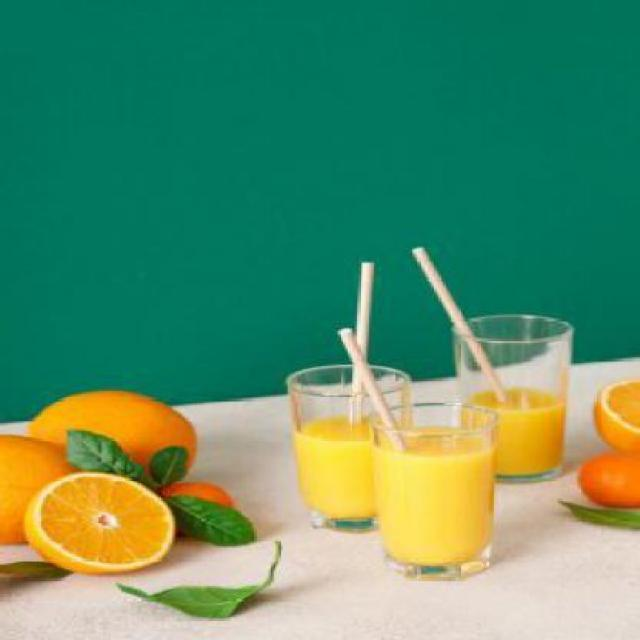Jeruk Sudah Matang: (35, 388, 196, 504), (31, 474, 176, 568), (0, 429, 102, 558), (574, 446, 638, 508), (594, 380, 638, 448)
